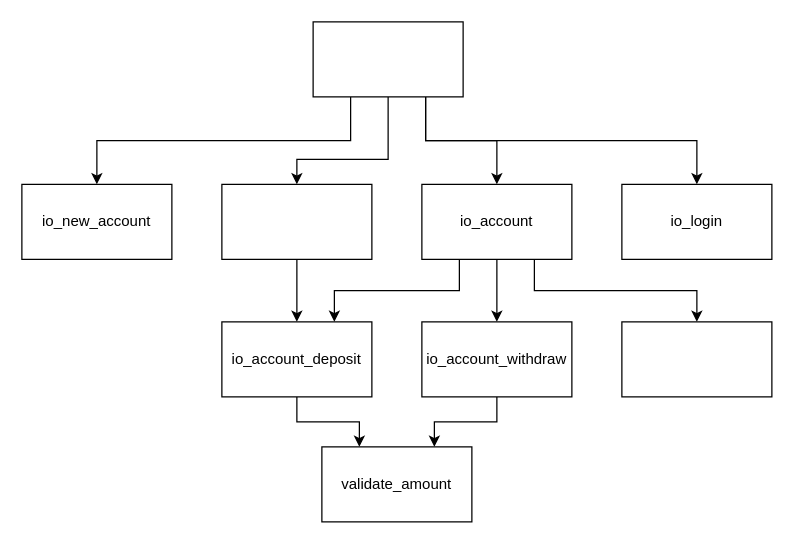
Image size: 794x544. Some labels were removed from this diagram. Each missing label, with the box of its shape:
io_account_balance: (621, 321, 772, 397)
io_deposit: (221, 183, 372, 259)
main: (312, 21, 463, 97)
